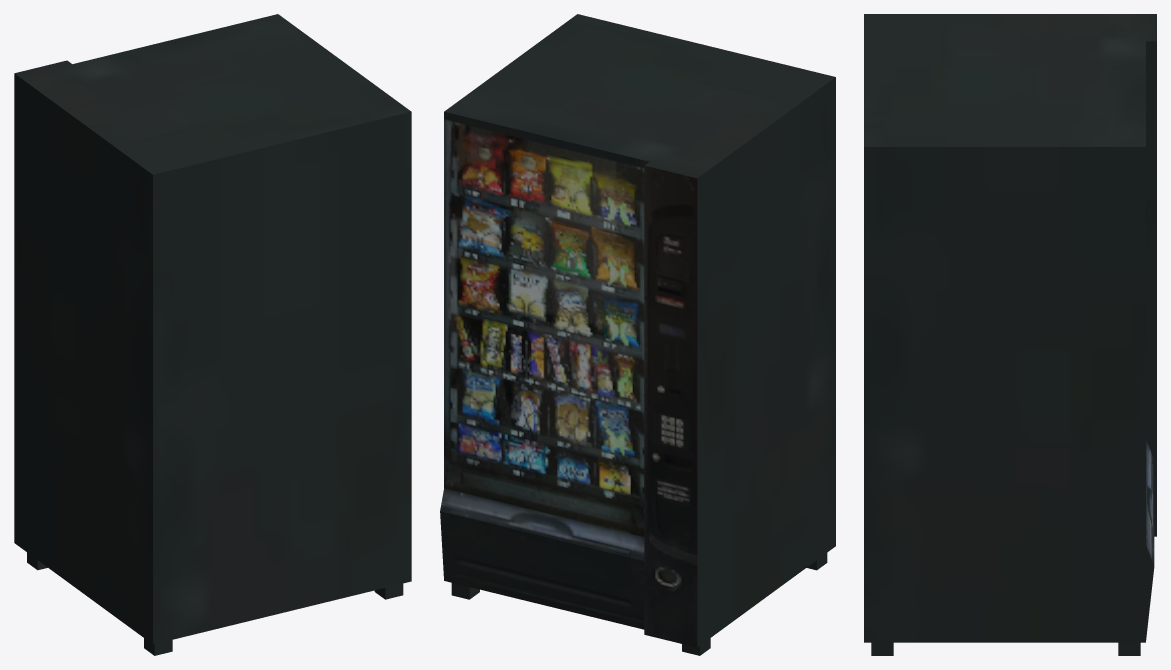
Rendered from Vending_Machine.fbx.
3 views of the same model, side by side, from view 1: azimuth 30°, elevation 25°; view 2: azimuth 150°, elevation 25°; view 3: azimuth 270°, elevation 25° (orthographic). The views are drawn at different scales.
Parts seen in each view (by area): view 1: Vending_Machine; view 2: Vending_Machine; view 3: Vending_Machine.
Part boxes in pixels (bbox=[...]): Vending_Machine: bbox=[14, 14, 411, 655]; Vending_Machine: bbox=[440, 14, 835, 655]; Vending_Machine: bbox=[864, 14, 1156, 655].
Bounding box in the file's own units: 62.74 × 112 × 58.29.
